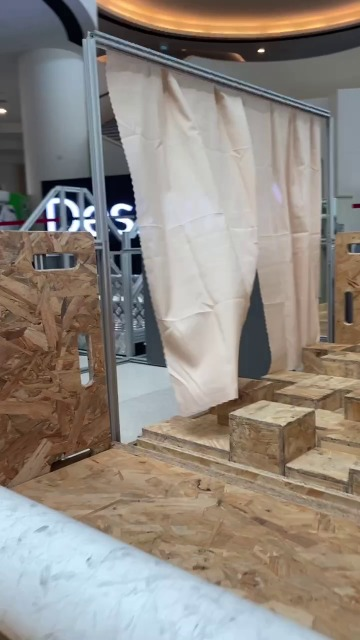curtain: (90, 51, 342, 397)
